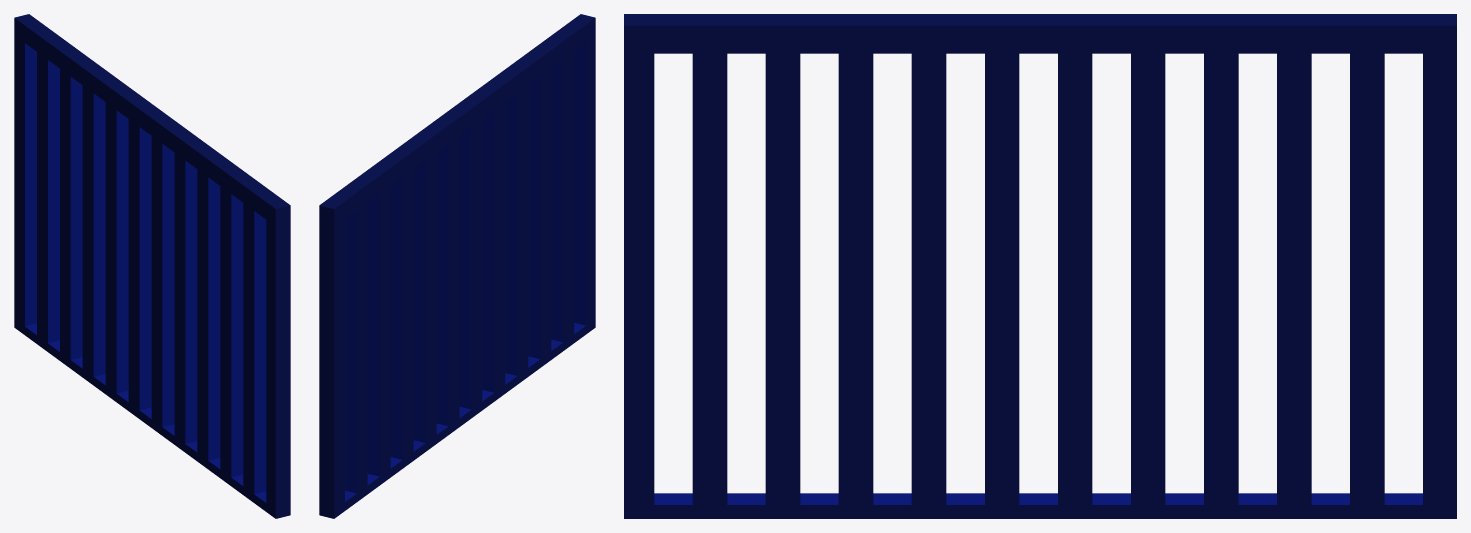
The model's file is fence.obj.
The picture shows the model from 3 angles, left to right: view 1: azimuth 30°, elevation 25°; view 2: azimuth 150°, elevation 25°; view 3: azimuth 270°, elevation 25°; orthographic projection. The views are drawn at different scales.
Visible parts, largest first — view 1: Cube.002; view 2: Cube.002; view 3: Cube.002.
Boxes of the visible parts, box(x1,y1,x2,y2) form: Cube.002: box(14, 14, 290, 518); Cube.002: box(319, 14, 595, 518); Cube.002: box(624, 14, 1456, 518).
Size of the model in its own units: 0.3879 by 7.67 by 11.74.
Materials: 1 (1 with a texture image).
